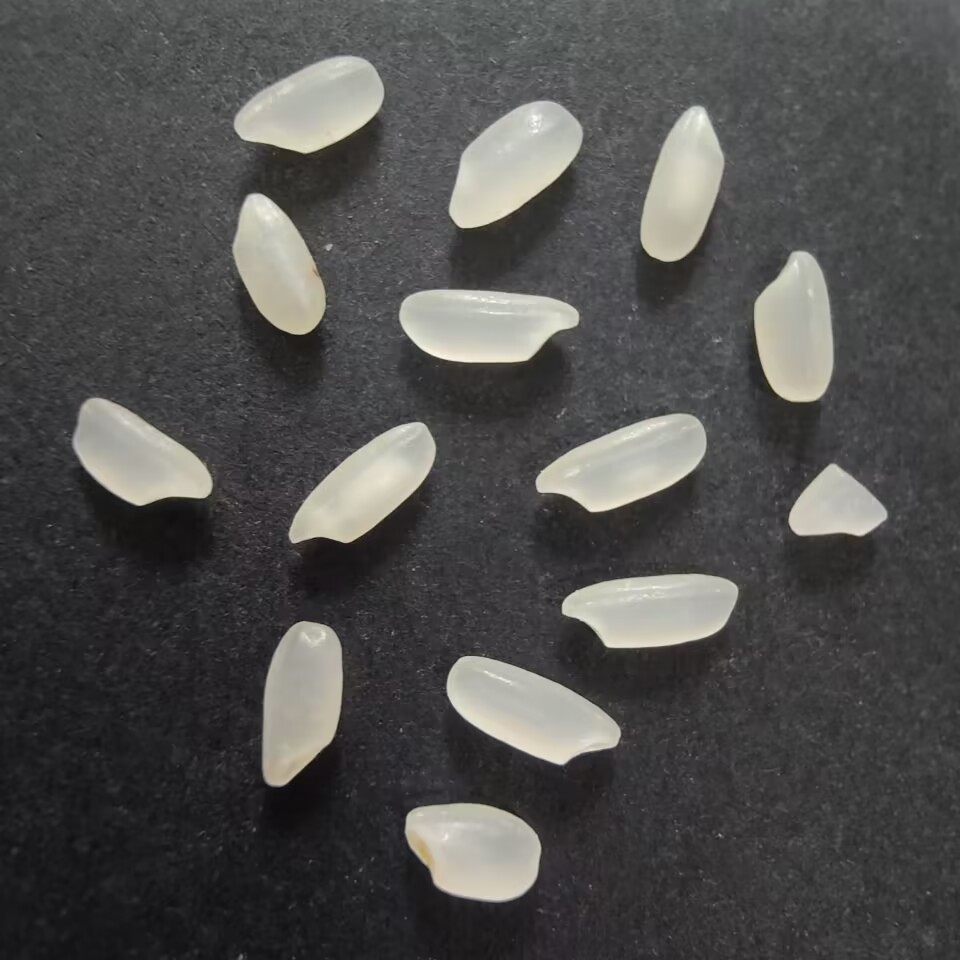broken: (784, 458, 891, 545)
rice: (281, 413, 444, 554), (444, 651, 628, 772), (529, 409, 712, 518), (444, 97, 588, 233), (66, 392, 216, 511), (228, 50, 388, 157), (553, 568, 747, 656), (257, 615, 350, 798), (633, 101, 735, 266), (396, 799, 547, 904), (229, 188, 331, 341), (393, 288, 584, 367), (749, 244, 841, 406)
